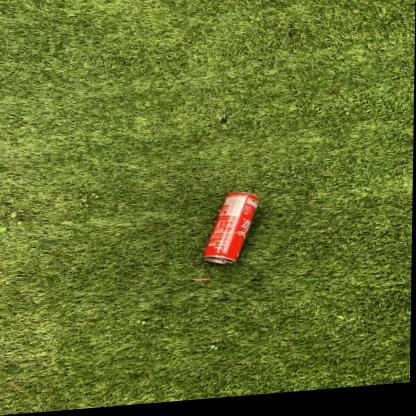trash: (203, 192, 258, 263)
